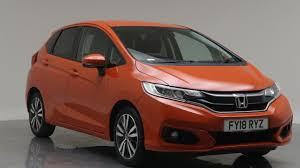Honda: (26, 23, 292, 163)
